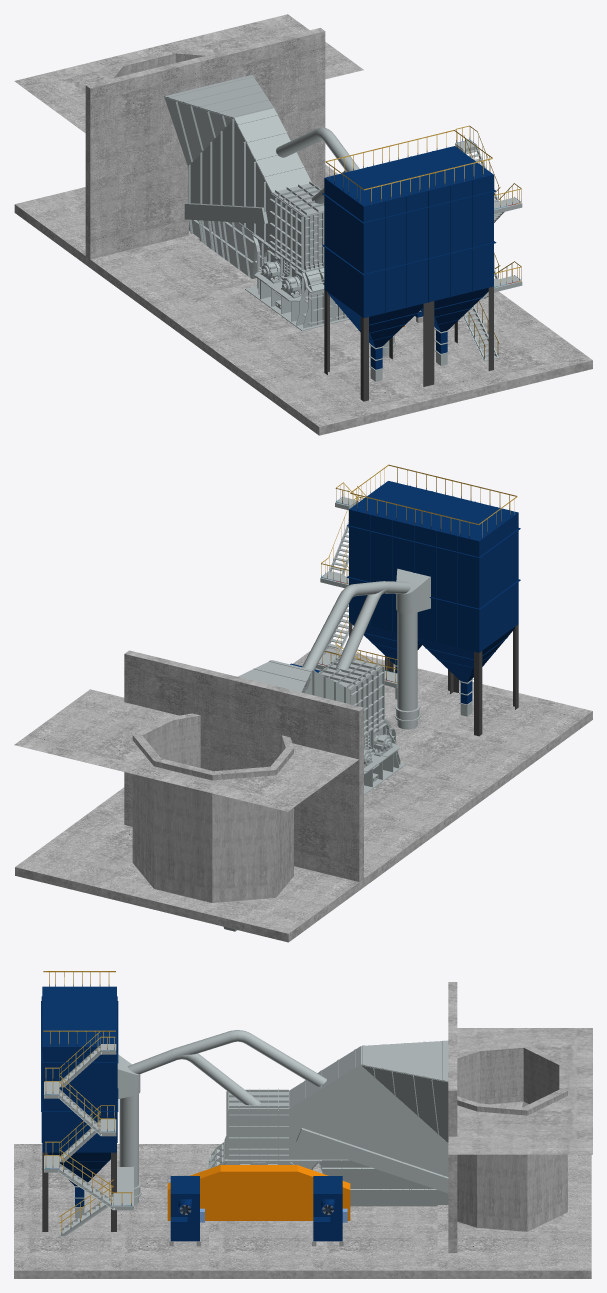
The model's file is PoSuiJi2.FBX.
3 views of the same model, one above another, from view 1: azimuth 30°, elevation 25°; view 2: azimuth 150°, elevation 25°; view 3: azimuth 270°, elevation 25° (orthographic). The views are drawn at different scales.
Visible parts, largest first — view 1: Groundposui, wall, JiChenQi, ShangKe, XiaKe, Layer:Guan, ChuanSongDai; view 2: wall, Groundposui, JiChenQi, ShangKe, Layer:Guan, XiaKe; view 3: Groundposui, wall, ShangKe, JiChenQi, DianJi, XiaKe, Layer:Guan, ChuanSongDai.
Part boxes in pixels (x1,y1,x2,y2): Groundposui: [14, 164, 592, 435]; wall: [14, 14, 363, 259]; JiChenQi: [322, 125, 522, 401]; ShangKe: [164, 75, 324, 272]; XiaKe: [189, 219, 349, 330]; Layer:Guan: [276, 127, 359, 203]; ChuanSongDai: [184, 203, 267, 223]; wall: [14, 650, 363, 902]; Groundposui: [15, 646, 592, 942]; JiChenQi: [316, 464, 520, 736]; ShangKe: [237, 656, 387, 735]; Layer:Guan: [302, 581, 410, 671]; XiaKe: [223, 719, 405, 931]; Groundposui: [14, 1144, 591, 1278]; wall: [448, 982, 592, 1252]; ShangKe: [224, 1040, 448, 1176]; JiChenQi: [41, 971, 141, 1236]; DianJi: [167, 1165, 350, 1246]; XiaKe: [207, 1142, 448, 1206]; Layer:Guan: [127, 1030, 326, 1105]; ChuanSongDai: [296, 1128, 448, 1193].
Bounding box in the file's own units: 1636 × 1626 × 3158.
Materials: 1 (1 with a texture image).
